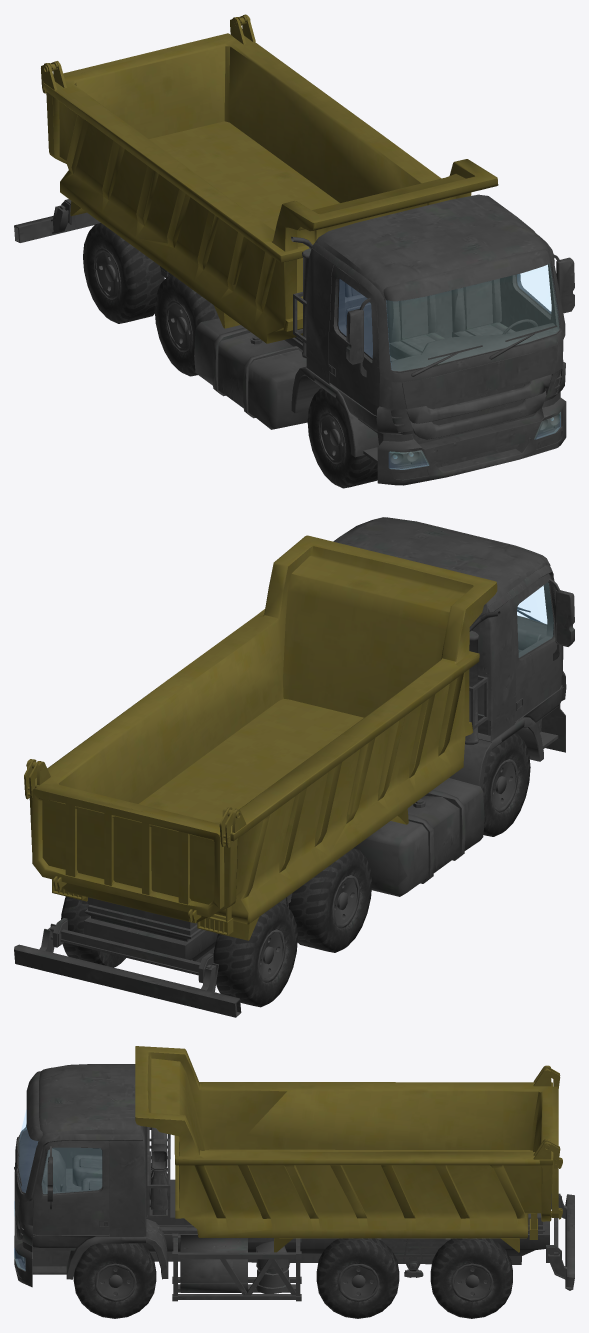
File: dump-truck.glb
3 renders of one model, top to bottom at view 1: azimuth 30°, elevation 25°; view 2: azimuth 150°, elevation 25°; view 3: azimuth 270°, elevation 25°, orthographic. The views are drawn at different scales.
Parts seen in each view (by area): view 1: dump_truck_01; view 2: dump_truck_01; view 3: dump_truck_01.
Part boxes in pixels (x1,y1,x2,y2): dump_truck_01: [14, 14, 574, 488]; dump_truck_01: [14, 517, 574, 1017]; dump_truck_01: [14, 1046, 574, 1318].
Size of the model in its own units: 2.17 by 2.3 by 5.78.
6 materials, 5 textured.
